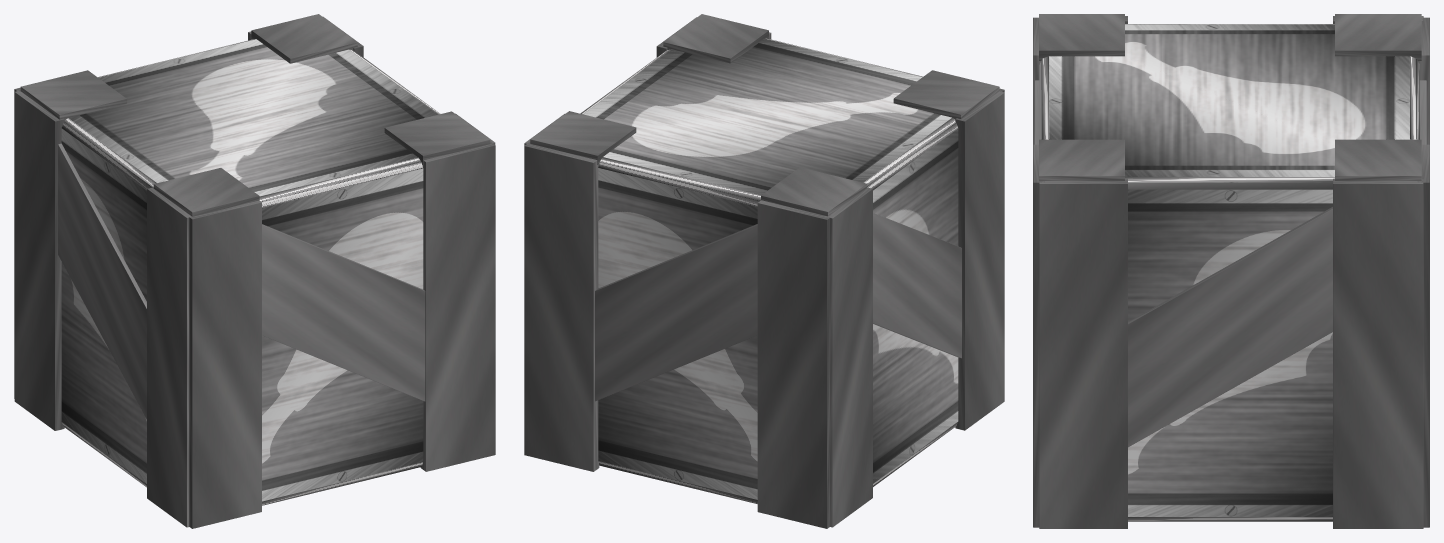
Rendered from CrateFood.fbx.
The picture shows the model from 3 angles, left to right: view 1: azimuth 30°, elevation 25°; view 2: azimuth 150°, elevation 25°; view 3: azimuth 270°, elevation 25°; orthographic projection. The views are drawn at different scales.
Visible parts, largest first — view 1: CornerPlanks, CrateMain, SidePlanks; view 2: CornerPlanks, CrateMain, SidePlanks; view 3: CrateMain, CornerPlanks, SidePlanks.
Part boxes in pixels (left/top/right/bottom): CornerPlanks: left=14, top=14, right=495, bottom=528; CrateMain: left=61, top=39, right=440, bottom=505; SidePlanks: left=58, top=143, right=425, bottom=419; CornerPlanks: left=524, top=14, right=1004, bottom=528; CrateMain: left=580, top=38, right=958, bottom=503; SidePlanks: left=595, top=213, right=961, bottom=401; CrateMain: left=1039, top=24, right=1419, bottom=521; CornerPlanks: left=1033, top=14, right=1429, bottom=528; SidePlanks: left=1035, top=80, right=1426, bottom=447.
Bounding box in the file's own units: 124 × 120 × 124.
